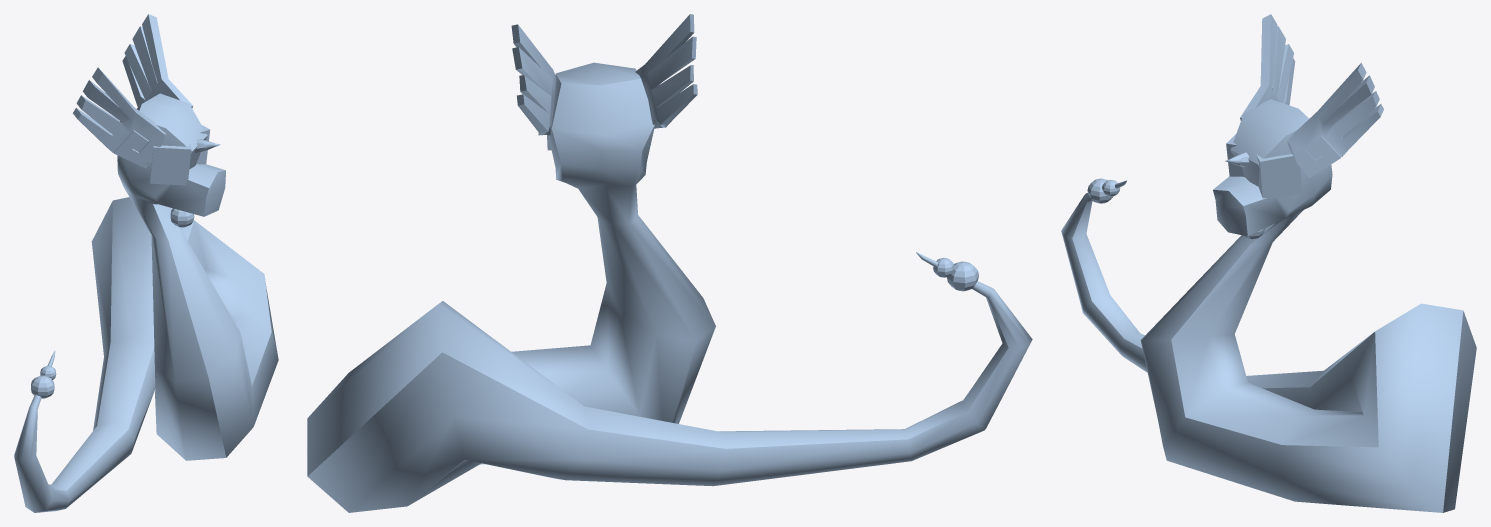
Rendered from dragonair.glb.
The picture shows the model from 3 angles, left to right: view 1: azimuth 30°, elevation 25°; view 2: azimuth 150°, elevation 25°; view 3: azimuth 270°, elevation 25°; orthographic projection. The views are drawn at different scales.
Visible parts, largest first — view 1: Node; view 2: Node; view 3: Node.
Boxes of the visible parts, bbox=[...] form: Node: bbox=[14, 14, 278, 512]; Node: bbox=[307, 14, 1032, 512]; Node: bbox=[1061, 14, 1476, 512].
Bounding box in the file's own units: 19.22 × 17.14 × 15.73.
